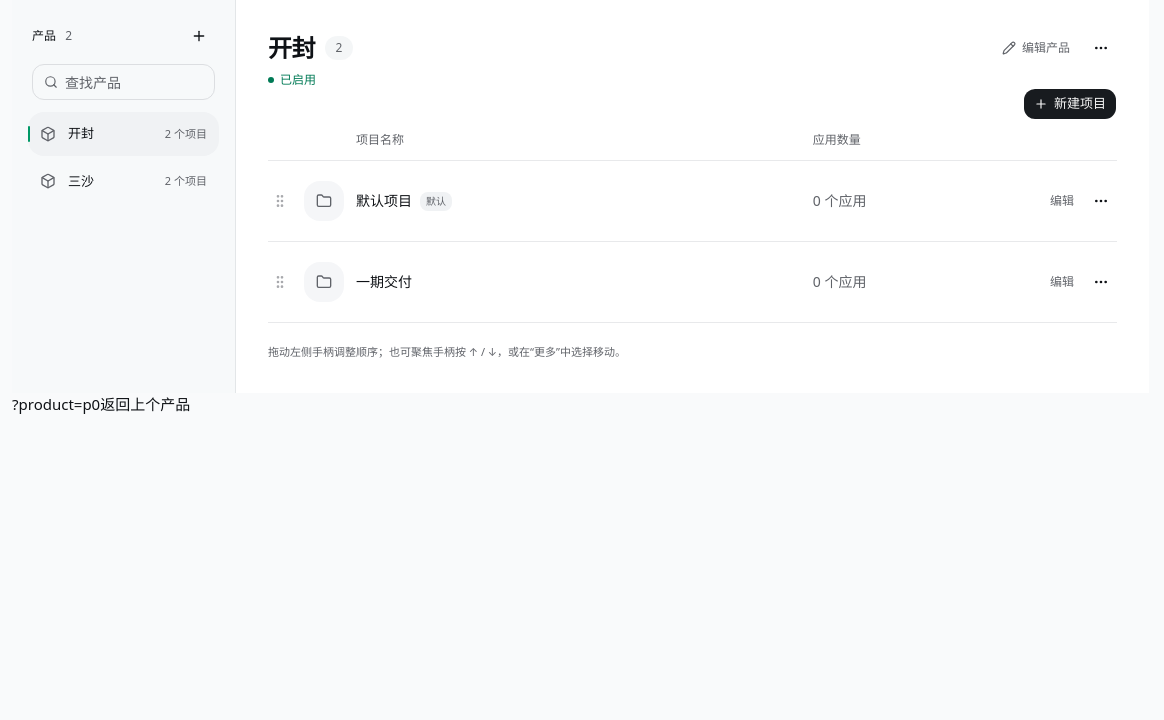
it: 产品管理连续维护 › 编辑保存项目名称与编码；保存失败保留输入并显示原因
Click the button with aria-label "编辑项目 一期交付": (1062, 282) x1=1041 y1=266 x2=1083 y2=298
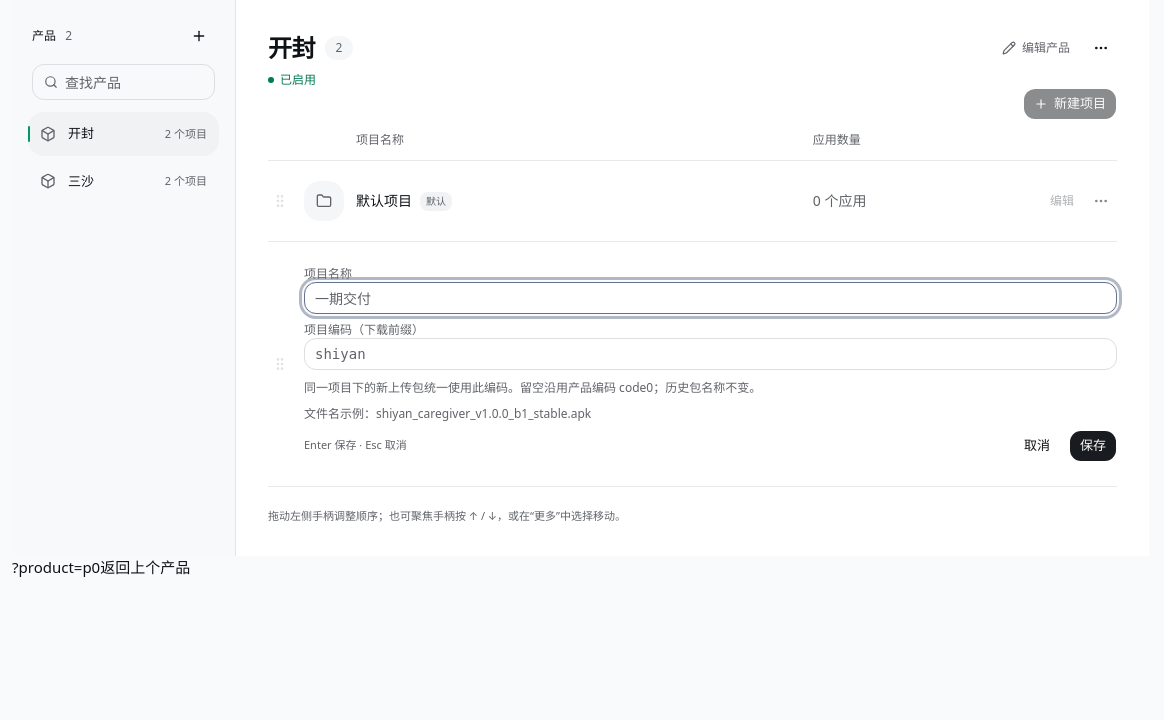
Replace the text in the field labelled "项目名称" with "二期交付": (710, 298) x1=304 y1=282 x2=1117 y2=314
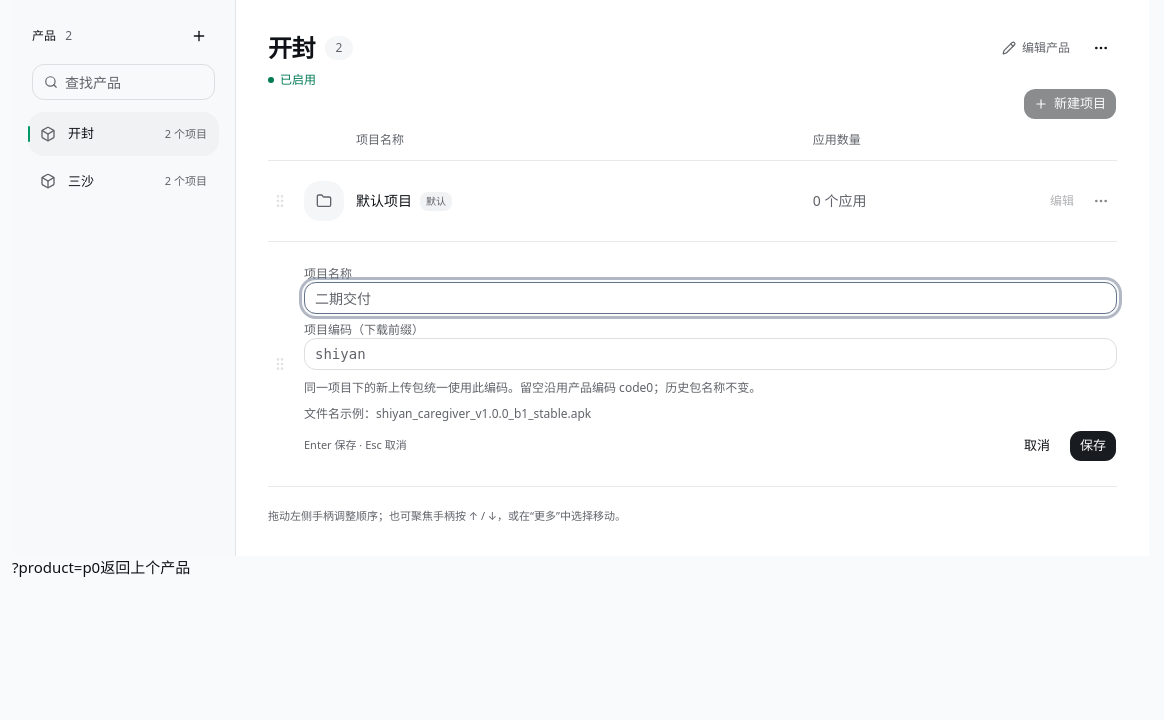
Expected: the field labelled "项目编码（下载前缀）" holds "shiyan", x1=304 y1=338 x2=1117 y2=370
Submit the form named "编辑项目", box x1=304 y1=262 x2=1117 y2=466
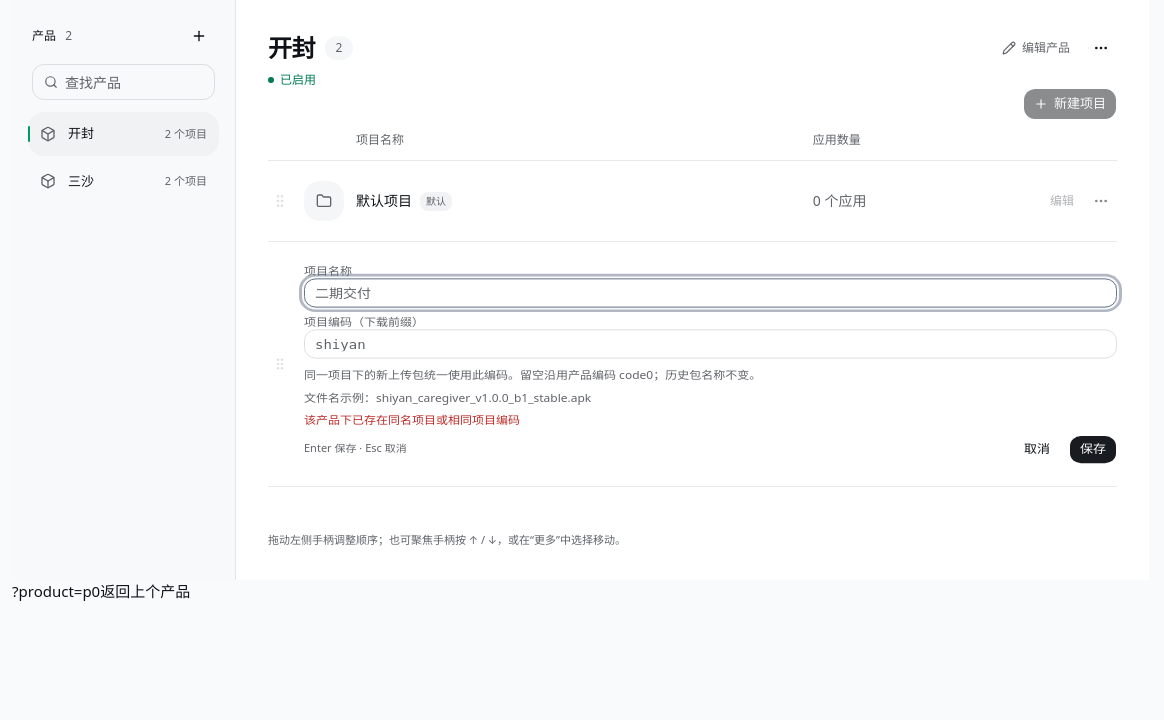
Expected: the message shows "已存在同名项目或相同项目编码", x1=304 y1=412 x2=520 y2=427
Submit the form named "编辑项目", box x1=304 y1=260 x2=1117 y2=467
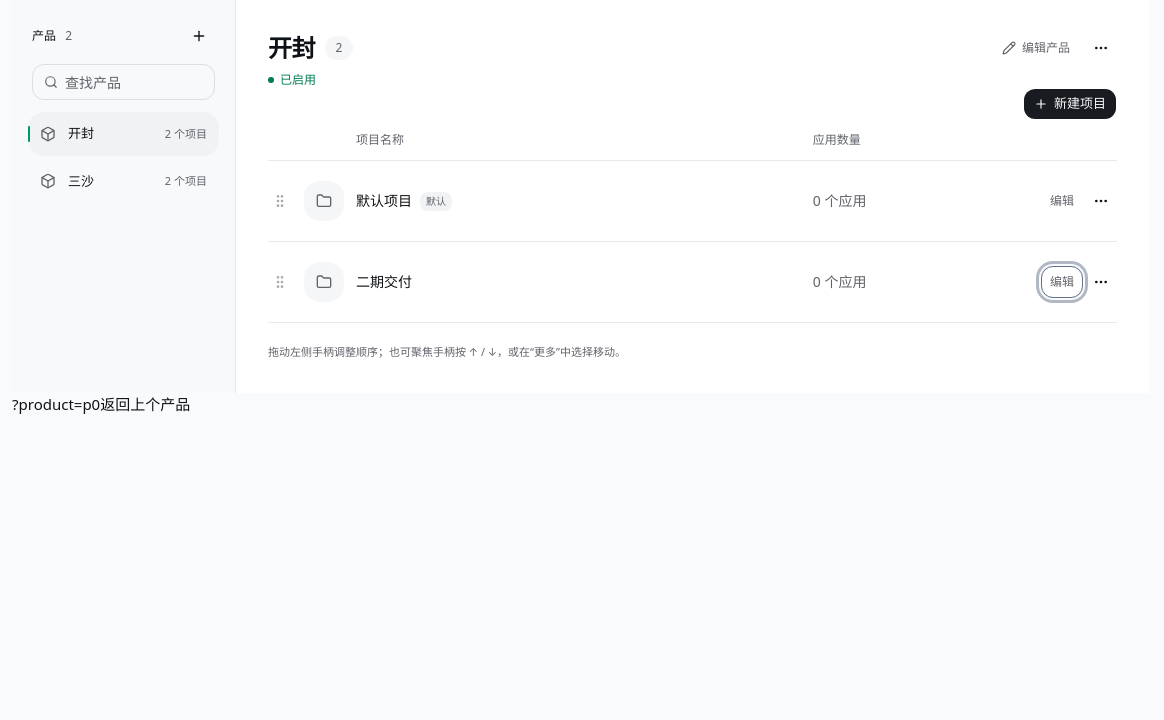
Expected: the button with aria-label "编辑项目 二期交付" is shown, x1=1041 y1=266 x2=1083 y2=298
